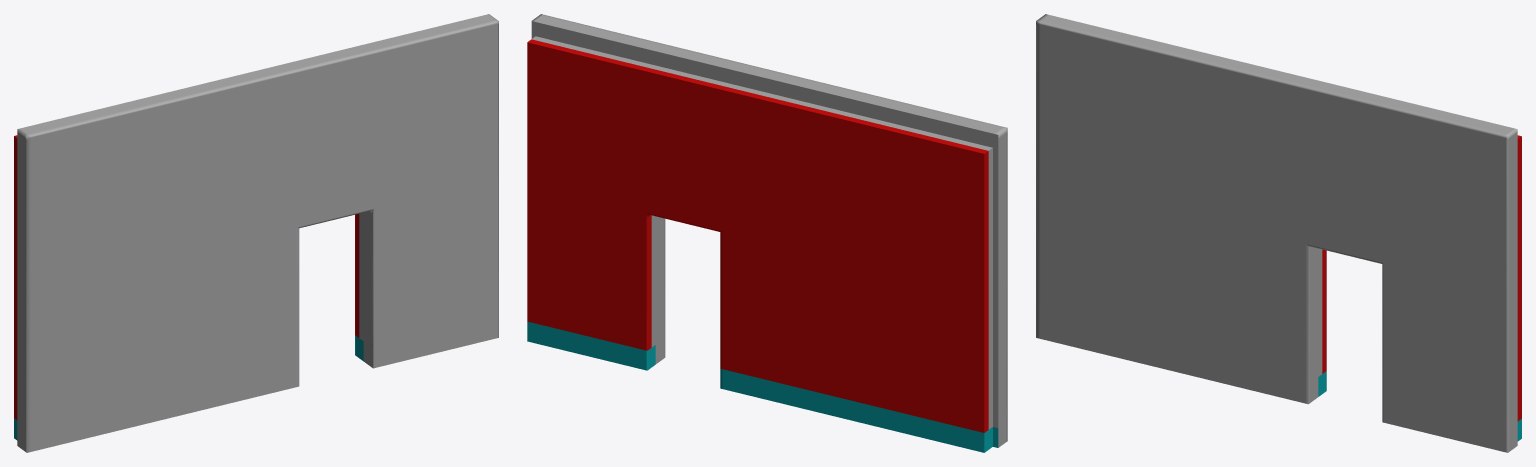
Rendered from Staircase_Wall_02_Snaps014.fbx.
3 views of the same model, side by side, from view 1: azimuth 30°, elevation 25°; view 2: azimuth 150°, elevation 25°; view 3: azimuth 330°, elevation 25° (orthographic).
Visible parts, largest first — view 1: Staircase_Wall_02_LOD00; view 2: Staircase_Wall_02_LOD00; view 3: Staircase_Wall_02_LOD00.
Part boxes in pixels (x1,y1,x2,y2): Staircase_Wall_02_LOD00: (14, 14, 498, 452); Staircase_Wall_02_LOD00: (527, 14, 1007, 452); Staircase_Wall_02_LOD00: (1036, 14, 1521, 452).
Size of what is drawn, in the model's own units: 640 by 411 by 42.7.
